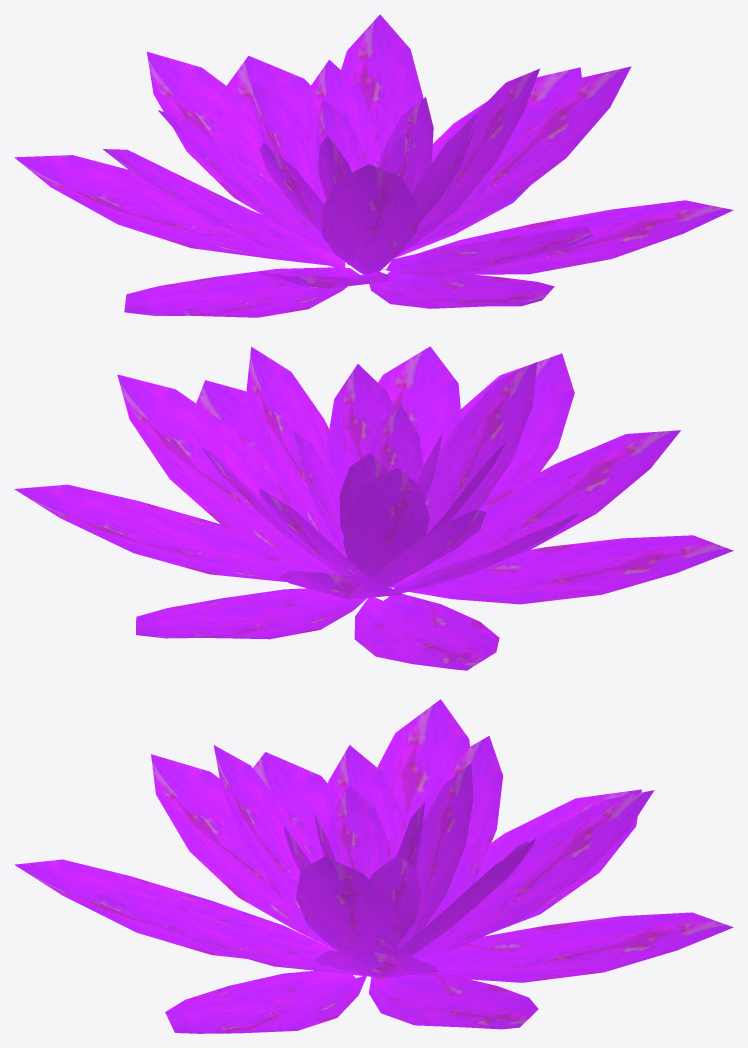
The model's file is Lilia_pojedyncza.glb.
The picture shows the model from 3 angles, top to bottom: view 1: azimuth 30°, elevation 25°; view 2: azimuth 150°, elevation 25°; view 3: azimuth 270°, elevation 25°; orthographic projection.
Parts seen in each view (by area): view 1: veg_flor_nenufar; view 2: veg_flor_nenufar; view 3: veg_flor_nenufar.
Boxes of the visible parts, x1=… form: veg_flor_nenufar: x1=14, y1=14, x2=733, y2=317; veg_flor_nenufar: x1=14, y1=346, x2=733, y2=670; veg_flor_nenufar: x1=14, y1=699, x2=733, y2=1033.
Size of the model in its own units: 0.6739 by 0.2035 by 0.7149.
1 material, 1 textured.
